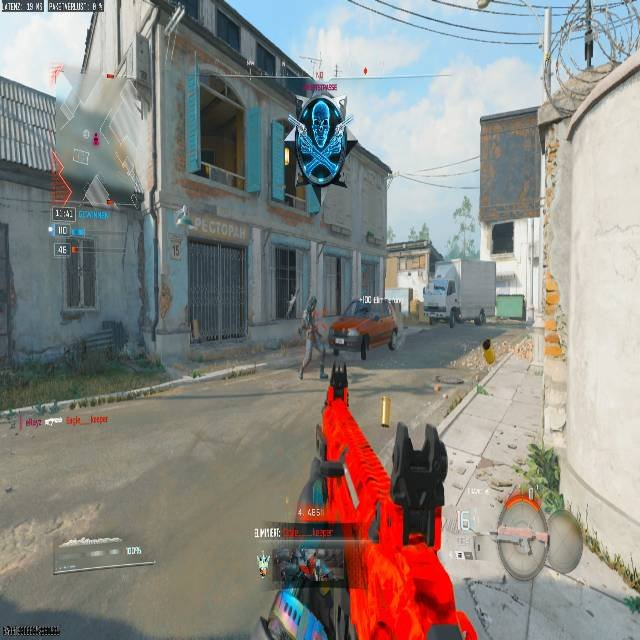player: (281, 95, 350, 215), (297, 298, 329, 379)
